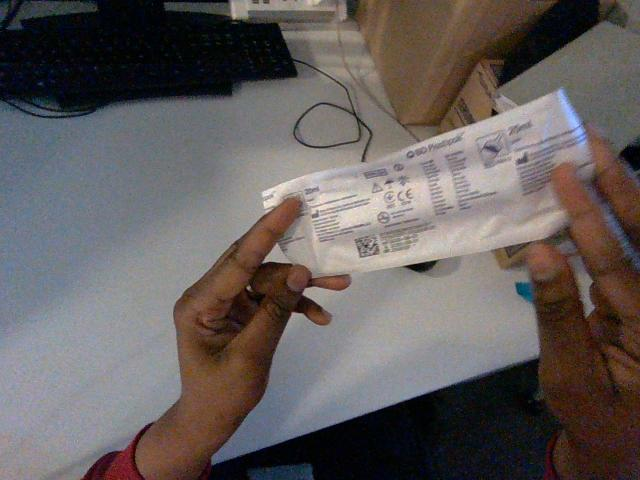syringe: (263, 90, 593, 274)
